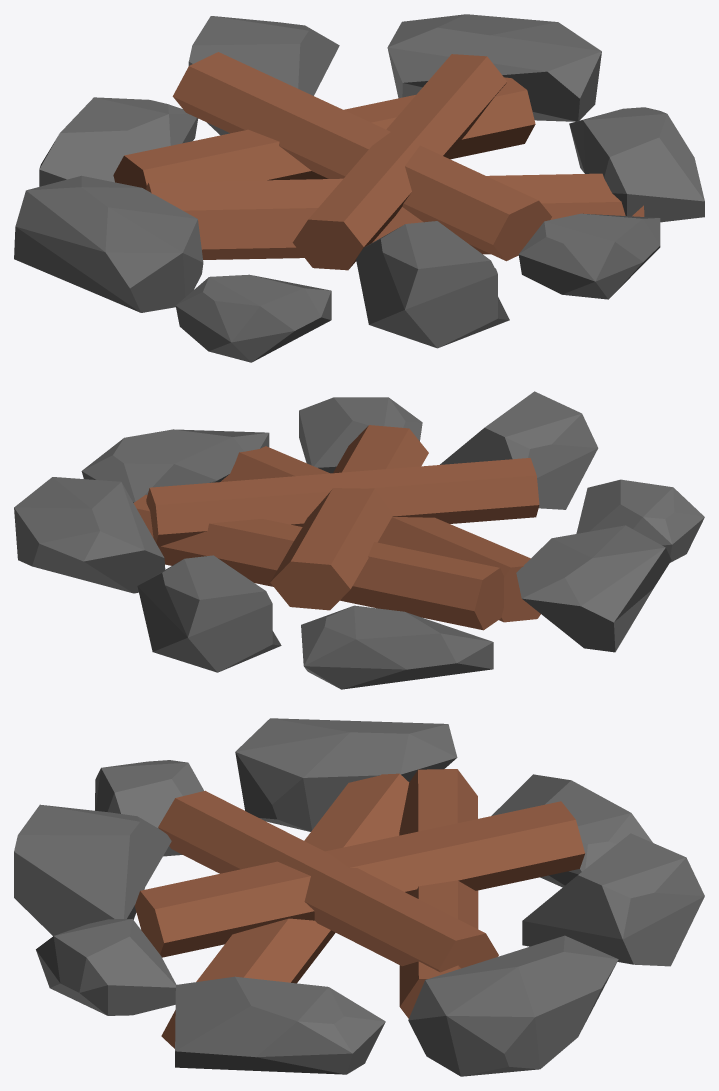
Rendered from campfire stone 1.fbx.
3 renders of one model, top to bottom at view 1: azimuth 30°, elevation 25°; view 2: azimuth 150°, elevation 25°; view 3: azimuth 270°, elevation 25°, orthographic. The views are drawn at different scales.
Visible parts, largest first — view 1: Cylinder; view 2: Cylinder; view 3: Cylinder.
Part boxes in pixels (x1,y1,x2,y2): Cylinder: (14,14,704,362); Cylinder: (14,391,704,689); Cylinder: (14,718,704,1076).
Size of the model in its own units: 227 by 42.71 by 213.
